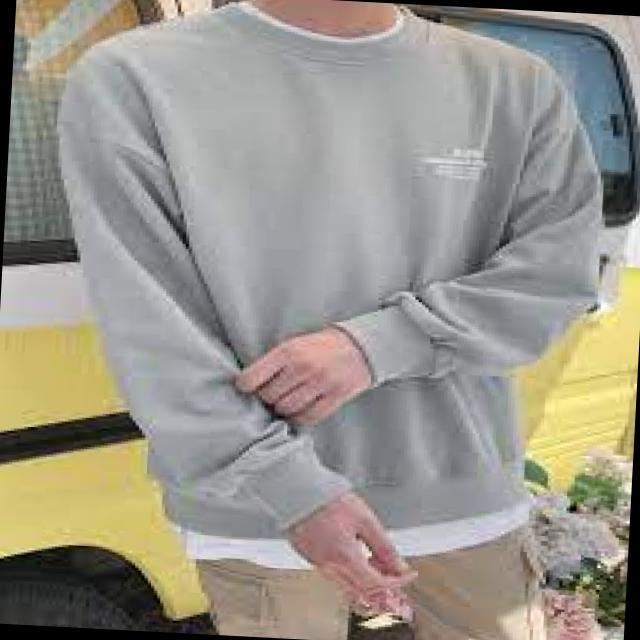short sleeve shirt: (181, 502, 550, 565)
sweater: (55, 1, 603, 541)
trousers: (193, 519, 547, 640)
